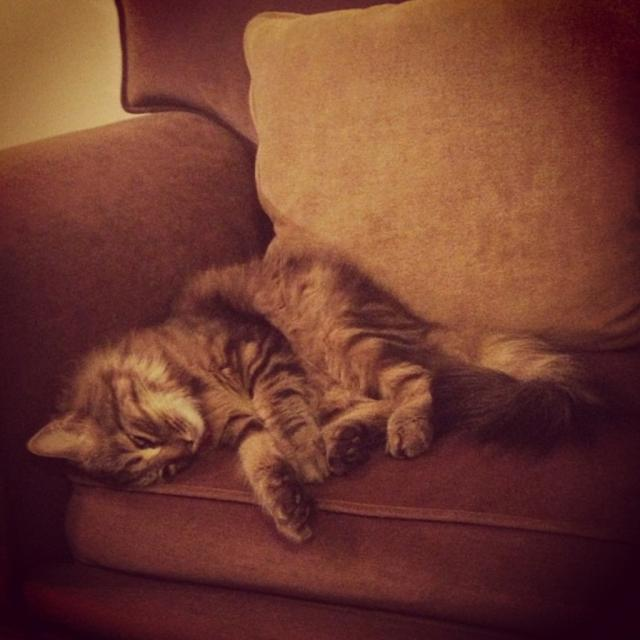Cat: (24, 246, 608, 544)
